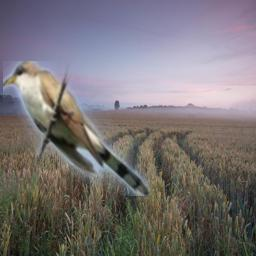Cuckoo: (3, 61, 150, 196)
